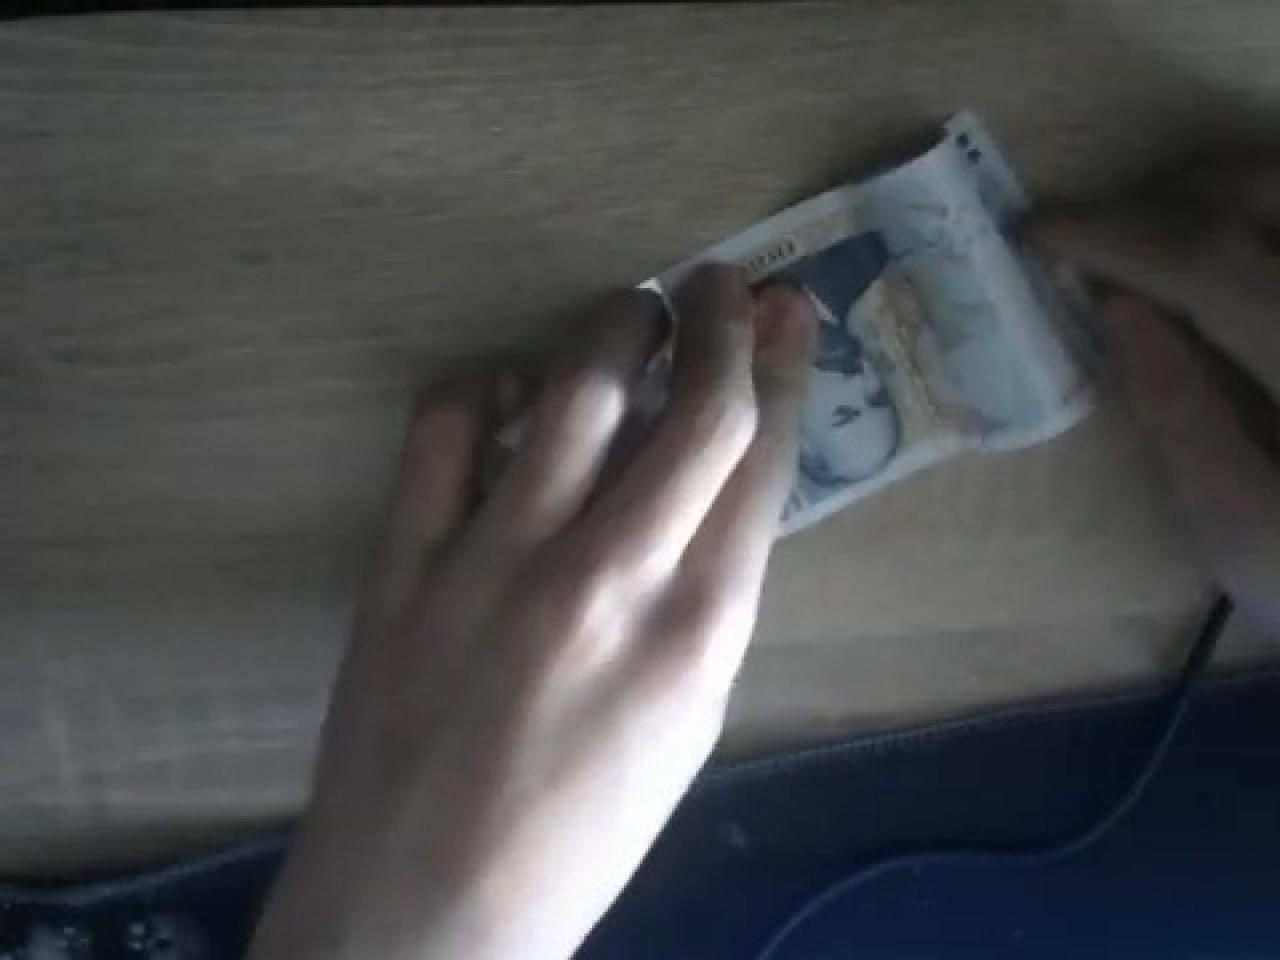20leva: (648, 109, 1102, 528)
